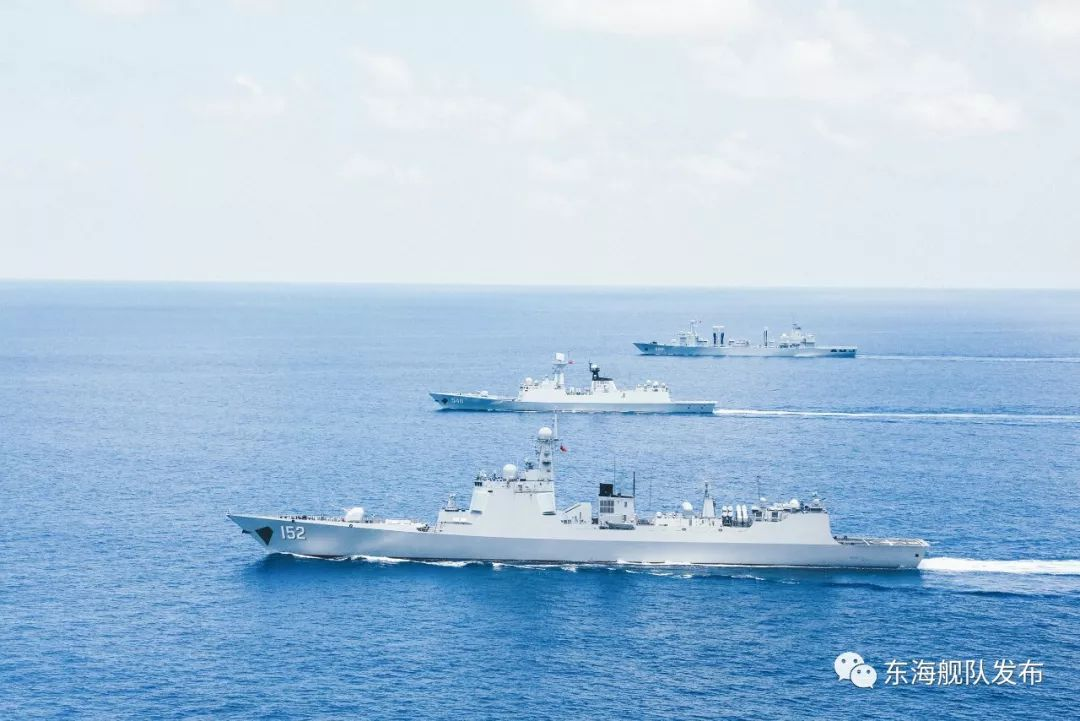warship: (229, 425, 950, 586), (420, 349, 719, 419), (628, 313, 865, 354)
